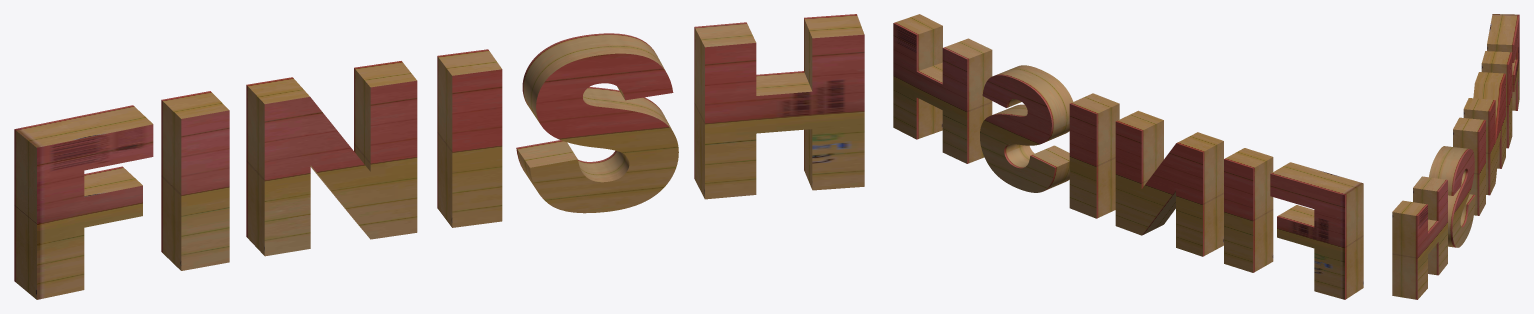
Rendered from FINISH 1.fbx.
The picture shows the model from 3 angles, left to right: view 1: azimuth 30°, elevation 25°; view 2: azimuth 150°, elevation 25°; view 3: azimuth 270°, elevation 25°; orthographic projection. The views are drawn at different scales.
Visible parts, largest first — view 1: FINISH 1; view 2: FINISH 1; view 3: FINISH 1.
Part boxes in pixels (x1,y1,x2,y2): FINISH 1: (14, 14, 864, 299); FINISH 1: (893, 14, 1363, 299); FINISH 1: (1392, 14, 1519, 299).
Size of the model in its own units: 52.57 by 10.52 by 14.01.
Materials: 1 (1 with a texture image).
